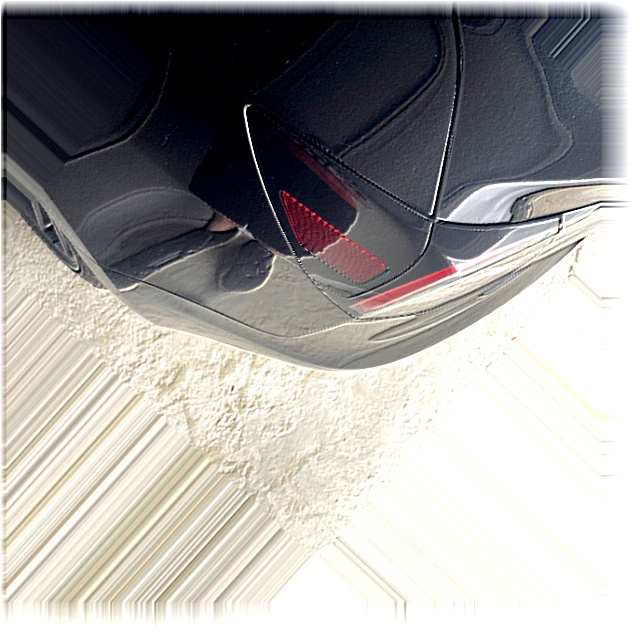reflector: (264, 180, 389, 300)
